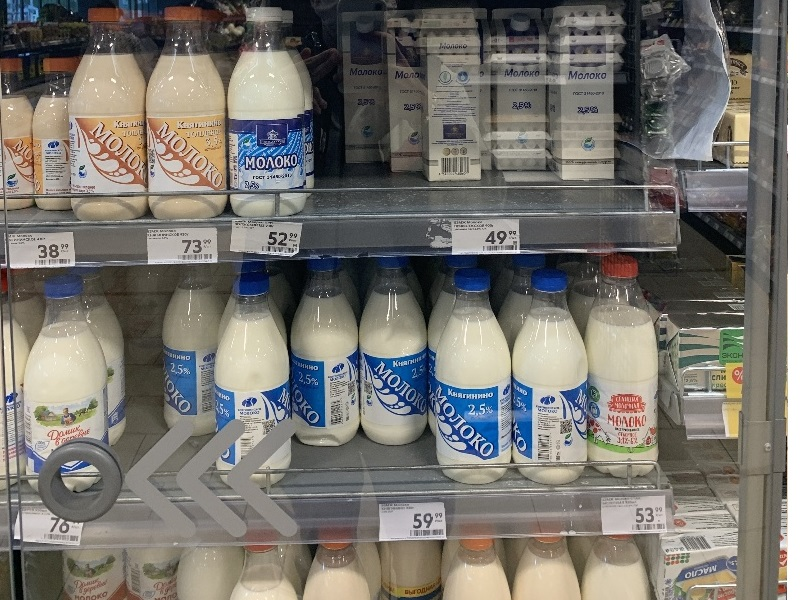milk: (215, 5, 319, 227), (500, 270, 603, 493), (136, 1, 236, 229), (62, 4, 160, 224), (582, 258, 677, 482), (349, 254, 446, 453), (434, 269, 517, 492), (286, 258, 372, 456)
